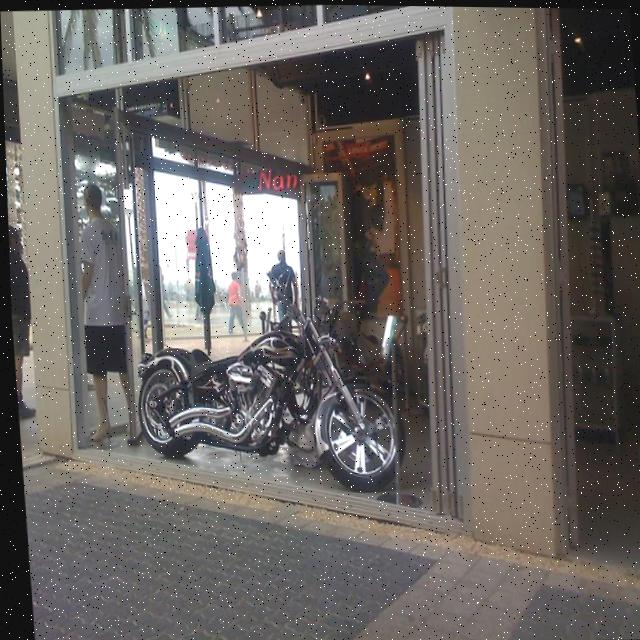motorcycle: (115, 314, 415, 484)
